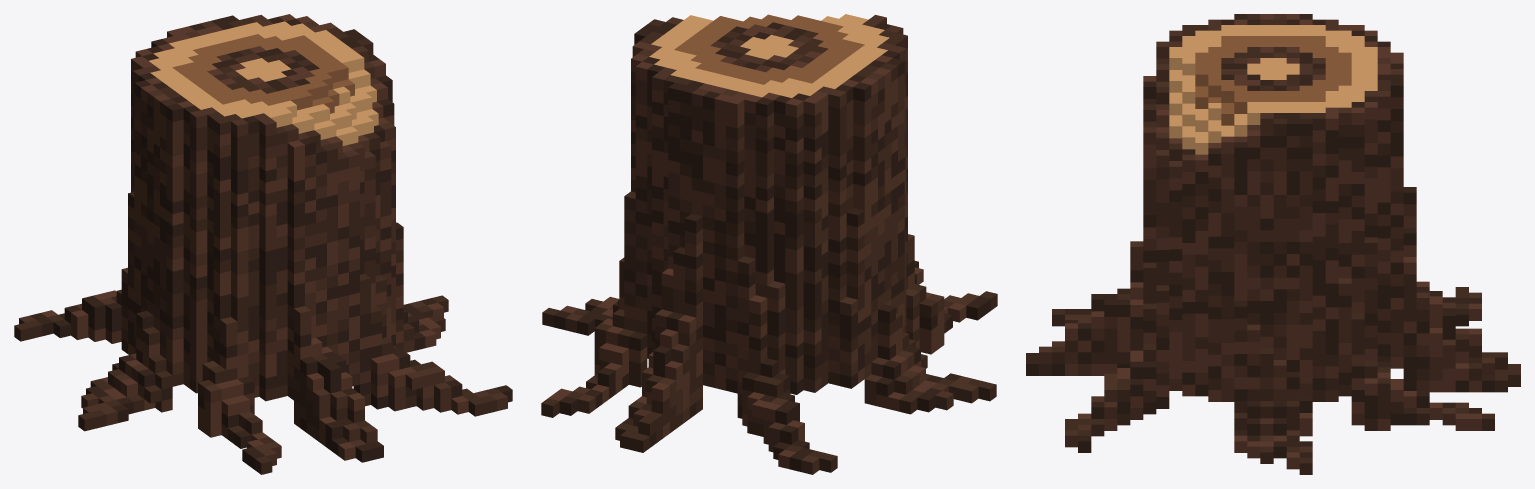
File: stump.fbx
3 views of the same model, side by side, from view 1: azimuth 30°, elevation 25°; view 2: azimuth 150°, elevation 25°; view 3: azimuth 270°, elevation 25° (orthographic). The views are drawn at different scales.
Visible parts, largest first — view 1: Untitled; view 2: Untitled; view 3: Untitled.
Boxes of the visible parts, <box> form: Untitled: <box>14,14,512,474</box>; Untitled: <box>541,14,997,474</box>; Untitled: <box>1026,14,1520,474</box>.
Bounding box in the file's own units: 1.39 × 1 × 1.47.
1 material, 1 textured.
